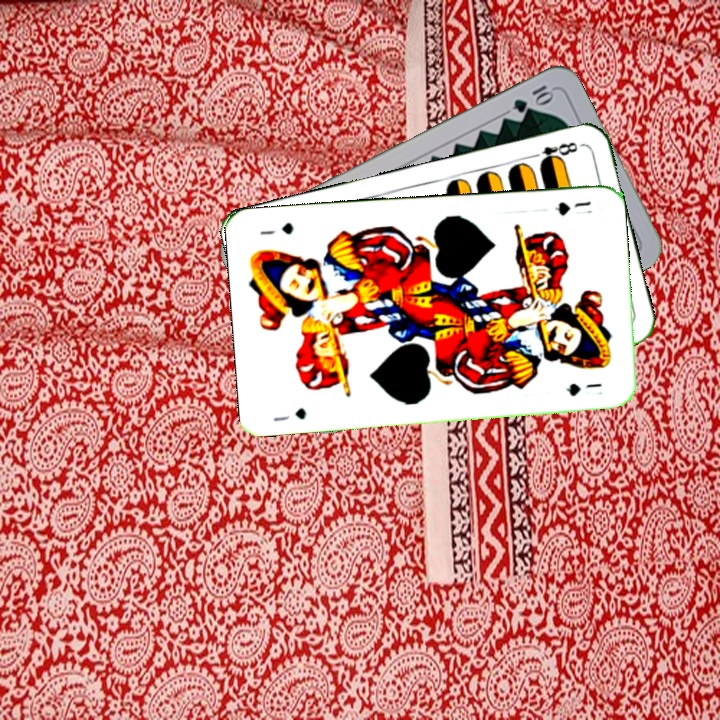E8: (526, 138, 585, 168)
G10: (509, 81, 556, 116)
GU: (550, 197, 593, 218), (269, 404, 309, 424)
